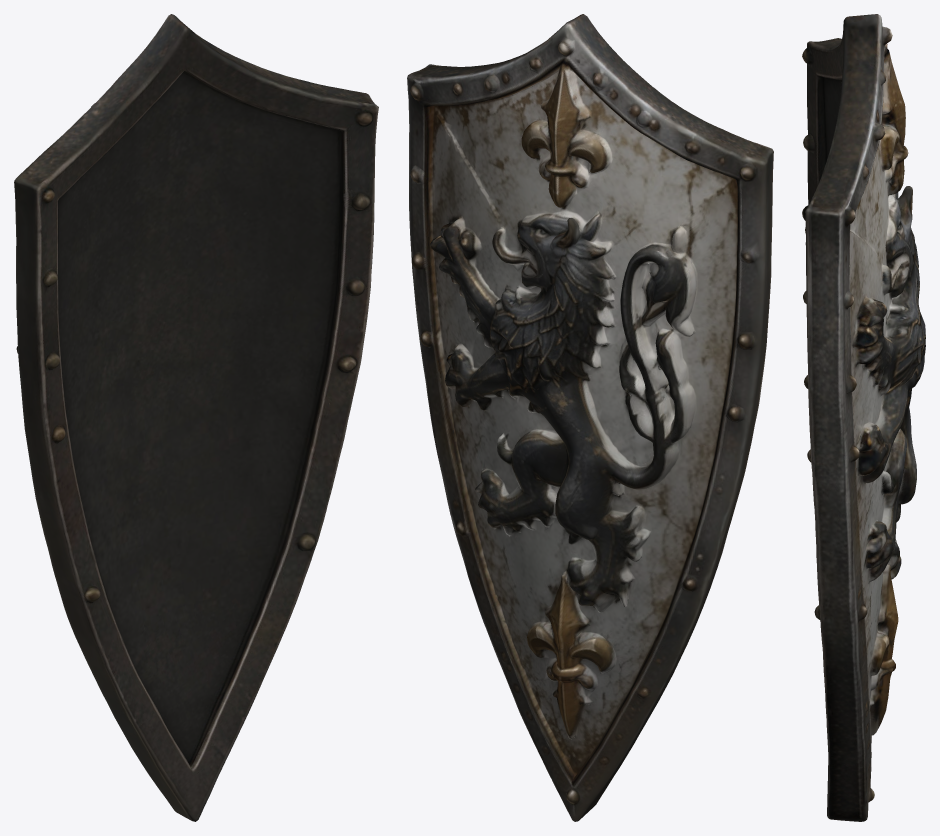
Rendered from kite_black_lion.glb.
3 renders of one model, left to right at view 1: azimuth 30°, elevation 25°; view 2: azimuth 150°, elevation 25°; view 3: azimuth 270°, elevation 25°, orthographic.
Parts seen in each view (by area): view 1: kite_black_lion; view 2: kite_black_lion; view 3: kite_black_lion.
Boxes of the visible parts, x1,y1,x2,y2 form: kite_black_lion: (14,14,378,821); kite_black_lion: (407,14,773,821); kite_black_lion: (802,14,925,821).
Bounding box in the file's own units: 0.3925 × 0.8408 × 0.1169.
Materials: 1 (1 with a texture image).
